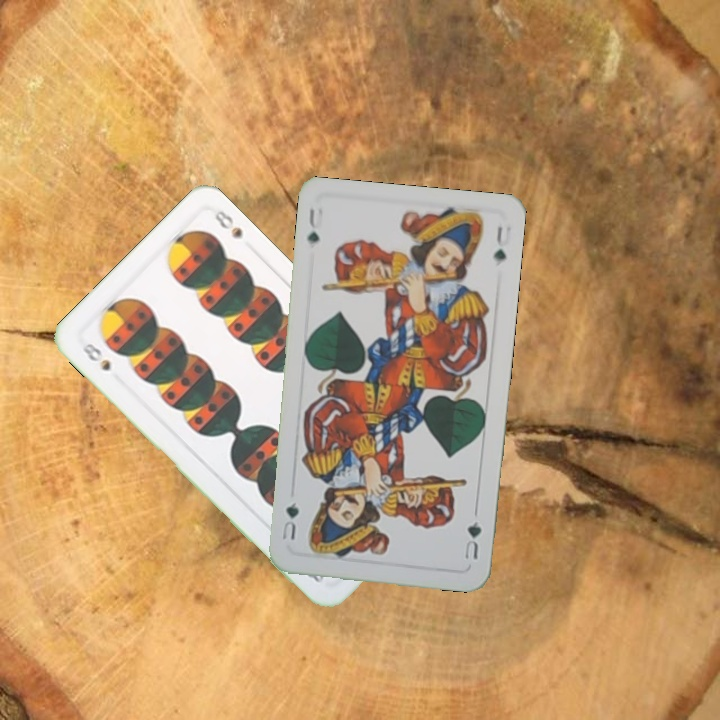GU: (460, 517, 484, 562), (303, 203, 322, 247)
S8: (78, 339, 113, 374)
